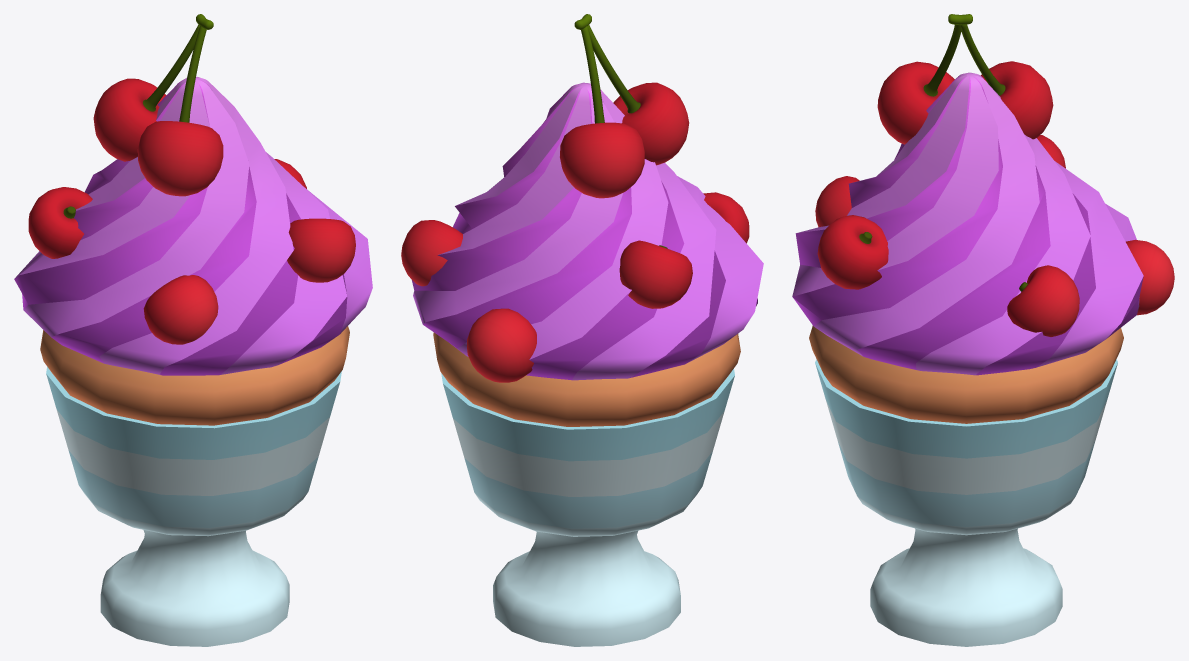
Rendered from Cupcake_Cherry_V3_00.fbx.
3 renders of one model, left to right at view 1: azimuth 30°, elevation 25°; view 2: azimuth 150°, elevation 25°; view 3: azimuth 270°, elevation 25°, orthographic.
Visible parts, largest first — view 1: Cupcake_Cherry_V3_00; view 2: Cupcake_Cherry_V3_00; view 3: Cupcake_Cherry_V3_00.
Part boxes in pixels (x1,y1,x2,y2): Cupcake_Cherry_V3_00: (14,14,372,646); Cupcake_Cherry_V3_00: (401,14,763,646); Cupcake_Cherry_V3_00: (792,14,1174,646).
Size of the model in its own units: 36.59 by 67.67 by 39.44.
